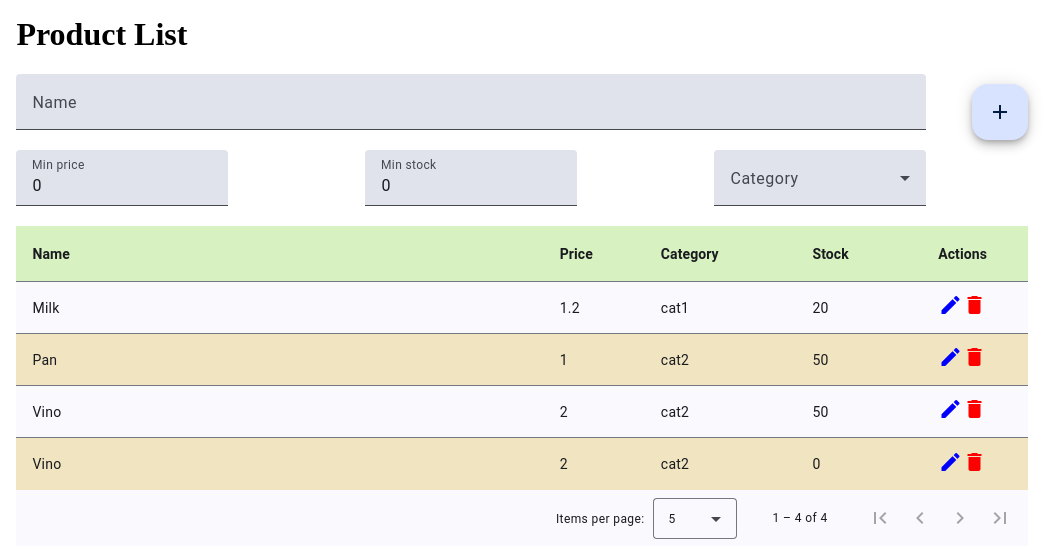
Test case: template spec › Goto new product page and cancel
Click the button named "Add" at (1000, 112), box [972, 84, 1028, 140]
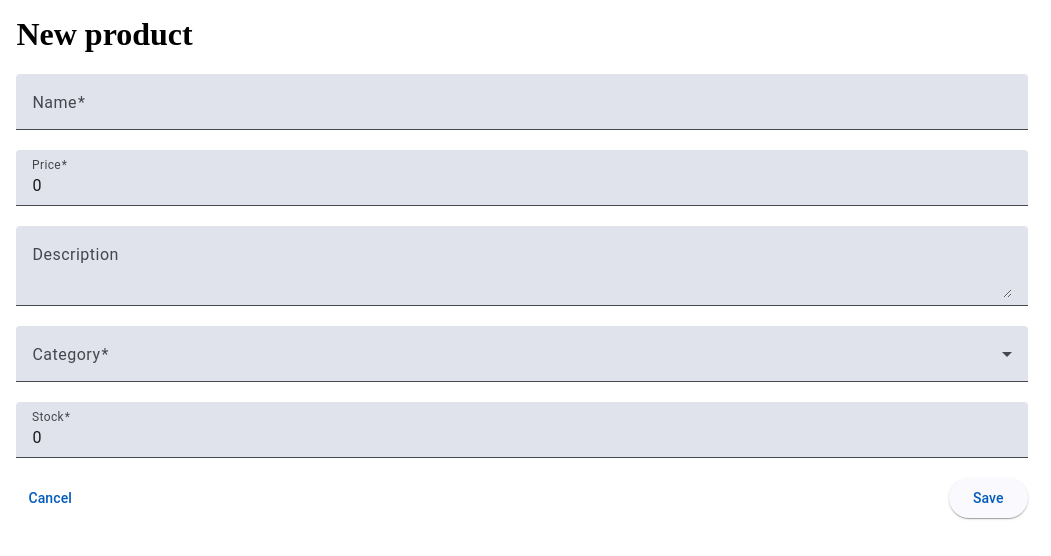
Result: the heading "New product" is shown at [16, 16, 193, 52]
Click the button "Cancel" at (50, 498), box [16, 478, 84, 518]
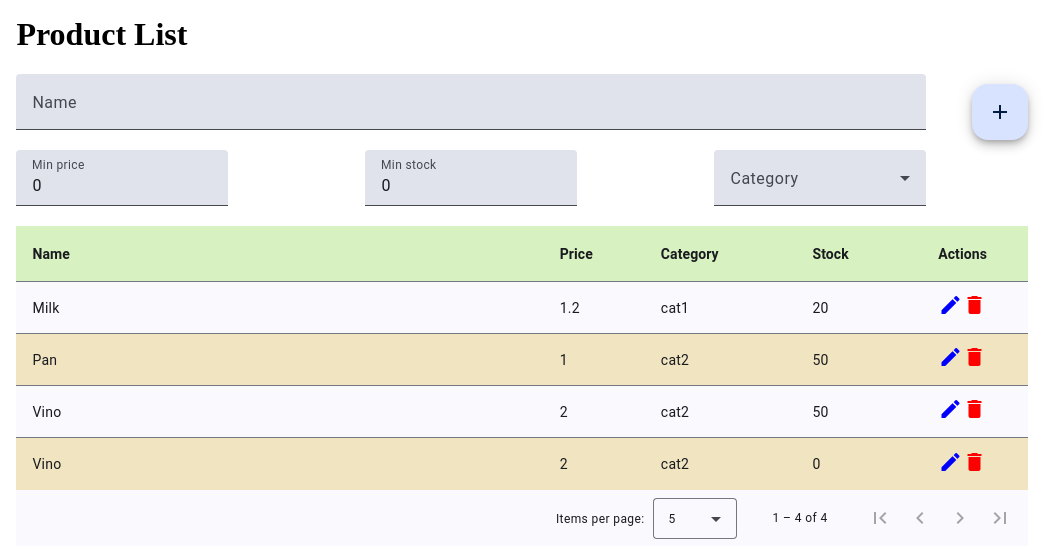
Result: the heading "Product List" is shown at [16, 16, 187, 52]
